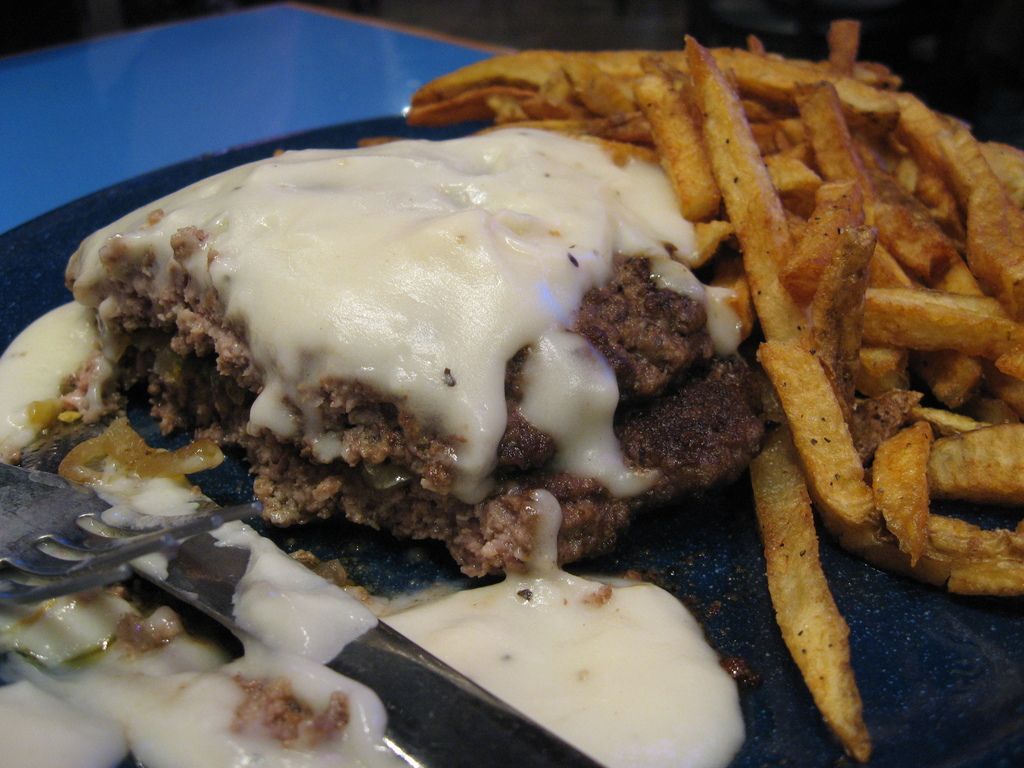French fries: (401, 7, 1023, 767)
